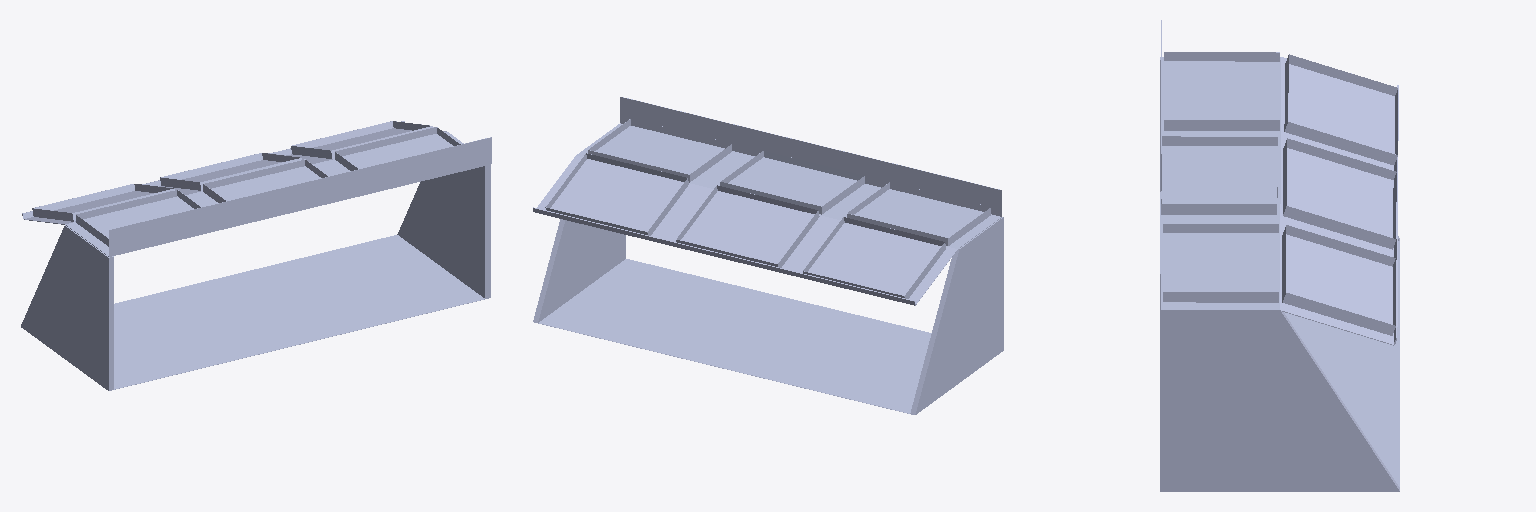
robot.urdf — pickup_area:
<?xml version="1.0" encoding="utf-8"?>
<!-- This URDF was automatically created by SolidWorks to URDF Exporter! Originally created by [author] ([email redacted]) 
     Commit Version: 1.5.1-0-g916b5db  Build Version: 1.5.7152.31018
     For more information, please see http://wiki.ros.org/sw_urdf_exporter -->
<robot
  name="pickup_area">
  <link
    name="base_link">
    <inertial>
      <origin
        xyz="-7.49469414002535 2.57385955814859 3.05848092130194"
        rpy="0 0 0" />
      <mass
        value="15637.464947411" />
      <inertia
        ixx="53705.8901400816"
        ixy="83.0888914154327"
        ixz="-6.37517005647859"
        iyy="577377.675822429"
        iyz="8359.72717626822"
        izz="585948.374563859" />
    </inertial>
    <visual>
      <origin
        xyz="0 0 0"
        rpy="0 0 0" />
      <geometry>
        <mesh
          filename="package://pickup_area/meshes/base_link.STL" />
      </geometry>
      <material
        name="">
        <color
          rgba="0.792156862745098 0.819607843137255 0.933333333333333 1" />
      </material>
    </visual>
    <collision>
      <origin
        xyz="0 0 0"
        rpy="0 0 0" />
      <geometry>
        <mesh
          filename="package://pickup_area/meshes/base_link.STL" />
      </geometry>
    </collision>
  </link>
</robot>

--- Facts derived from the render (not from the file) ---
The picture shows the robot from 3 angles, left to right: view 1: azimuth 30°, elevation 25°; view 2: azimuth 150°, elevation 25°; view 3: azimuth 270°, elevation 25°; orthographic projection.
Robot: pickup_area — 1 links, 0 joints (none); root link base_link; default pose: every joint at zero.
Links seen in each view (by area): view 1: base_link; view 2: base_link; view 3: base_link.
Boxes of the visible links, x1,y1,x2,y2 form: base_link: (21,121,491,390); base_link: (533,97,1003,414); base_link: (1160,20,1399,491).
Size in the robot's own frame: 15.05 by 6 by 6.03 metres.
1 mesh visuals loaded from 1 distinct referenced files (1 binary STL).